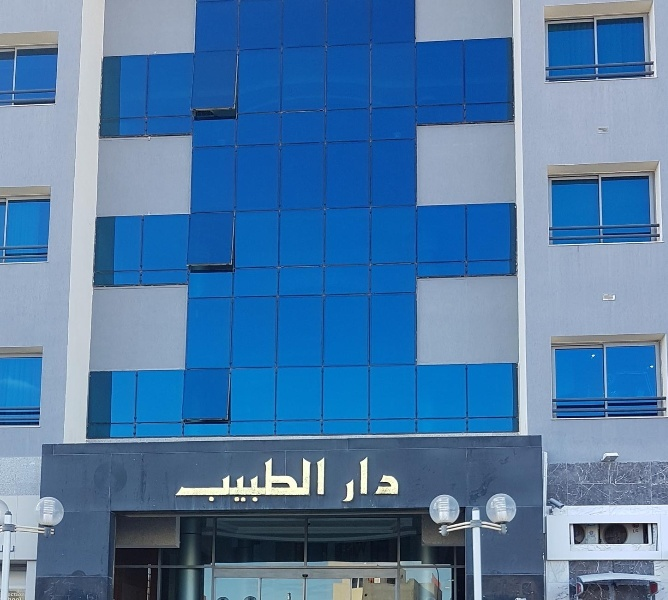text: (177, 457, 192, 508), (193, 457, 208, 508), (209, 457, 224, 508), (225, 457, 240, 508), (241, 457, 256, 508), (257, 457, 272, 508), (273, 457, 288, 508), (289, 457, 304, 508), (305, 457, 320, 508), (353, 456, 368, 503), (369, 456, 384, 503), (385, 456, 400, 503), (343, 456, 352, 503), (321, 457, 326, 508), (175, 457, 176, 508), (632, 529, 640, 534)
